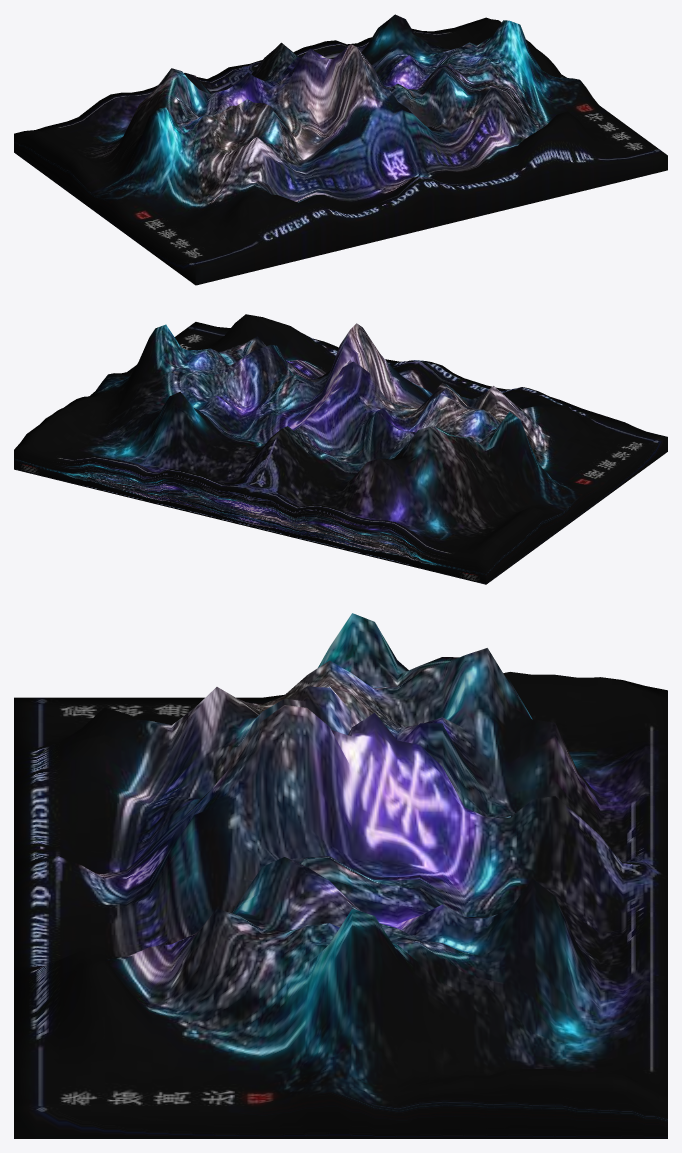
Rendered from CAREER_06_Tool_08_Qi_Amp.glb.
The picture shows the model from 3 angles, top to bottom: view 1: azimuth 30°, elevation 25°; view 2: azimuth 150°, elevation 25°; view 3: azimuth 270°, elevation 25°; orthographic projection. The views are drawn at different scales.
Visible parts, largest first — view 1: CAREER_06_Tool_08_Qi_Amp; view 2: CAREER_06_Tool_08_Qi_Amp; view 3: CAREER_06_Tool_08_Qi_Amp.
Part boxes in pixels (x1,y1,x2,y2): CAREER_06_Tool_08_Qi_Amp: (14,14,667,285); CAREER_06_Tool_08_Qi_Amp: (14,314,667,584); CAREER_06_Tool_08_Qi_Amp: (14,613,667,1138).
Bounding box in the file's own units: 2 × 0.51 × 1.33.
Materials: 1 (1 with a texture image).
